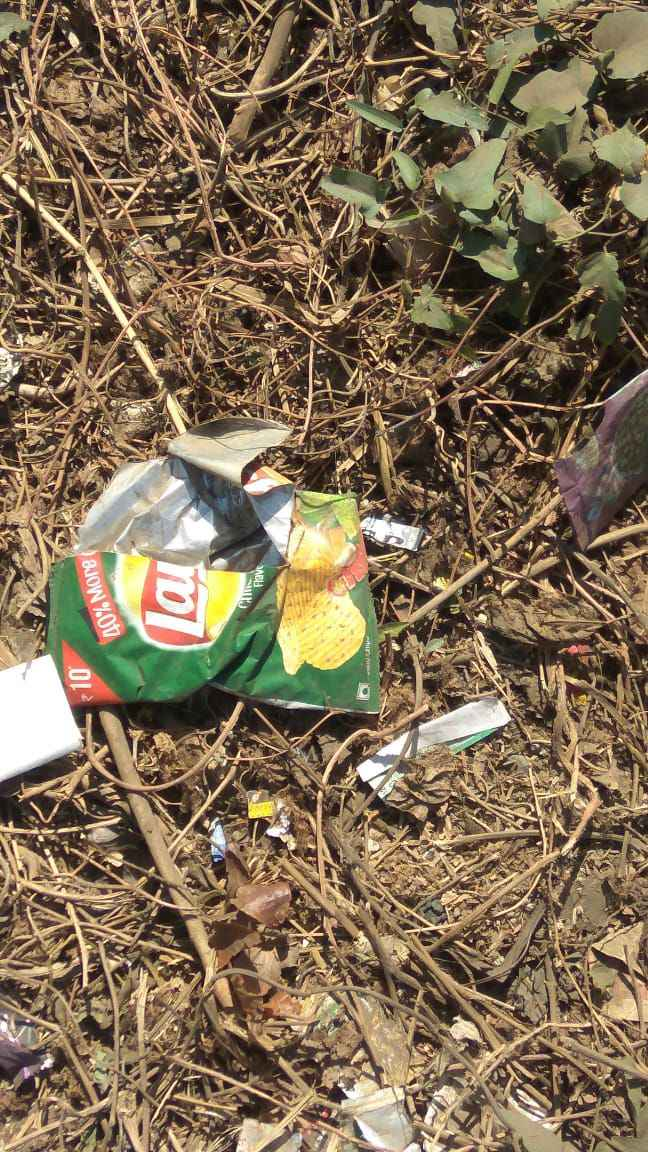Lays: (122, 527, 247, 651)
